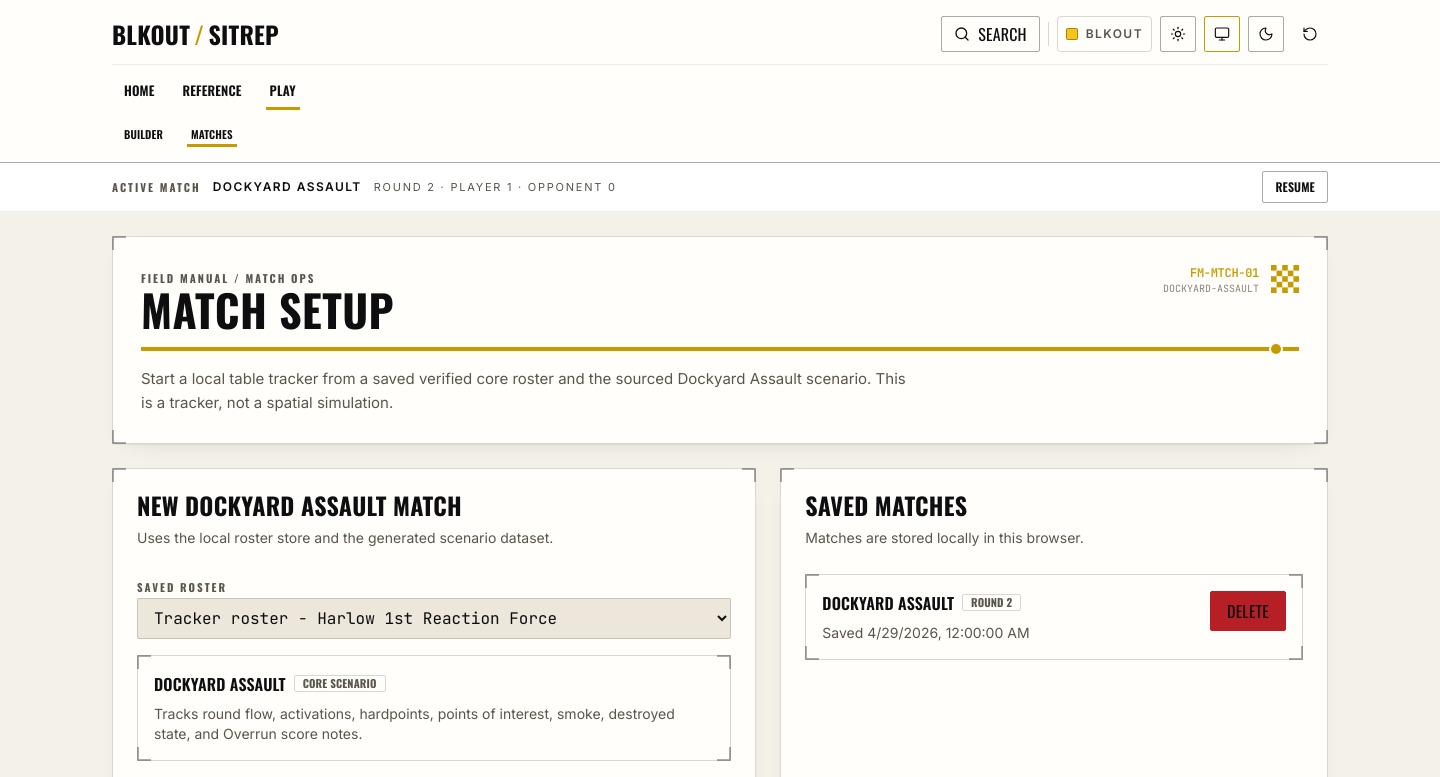
Test case: App smoke test › surfaces and deletes saved matches from match setup
Expected: the text "Round 2" is shown, [962,594,1021,612]
Click the button "Delete".
click(1248, 611)  # box [1210,591,1286,631]
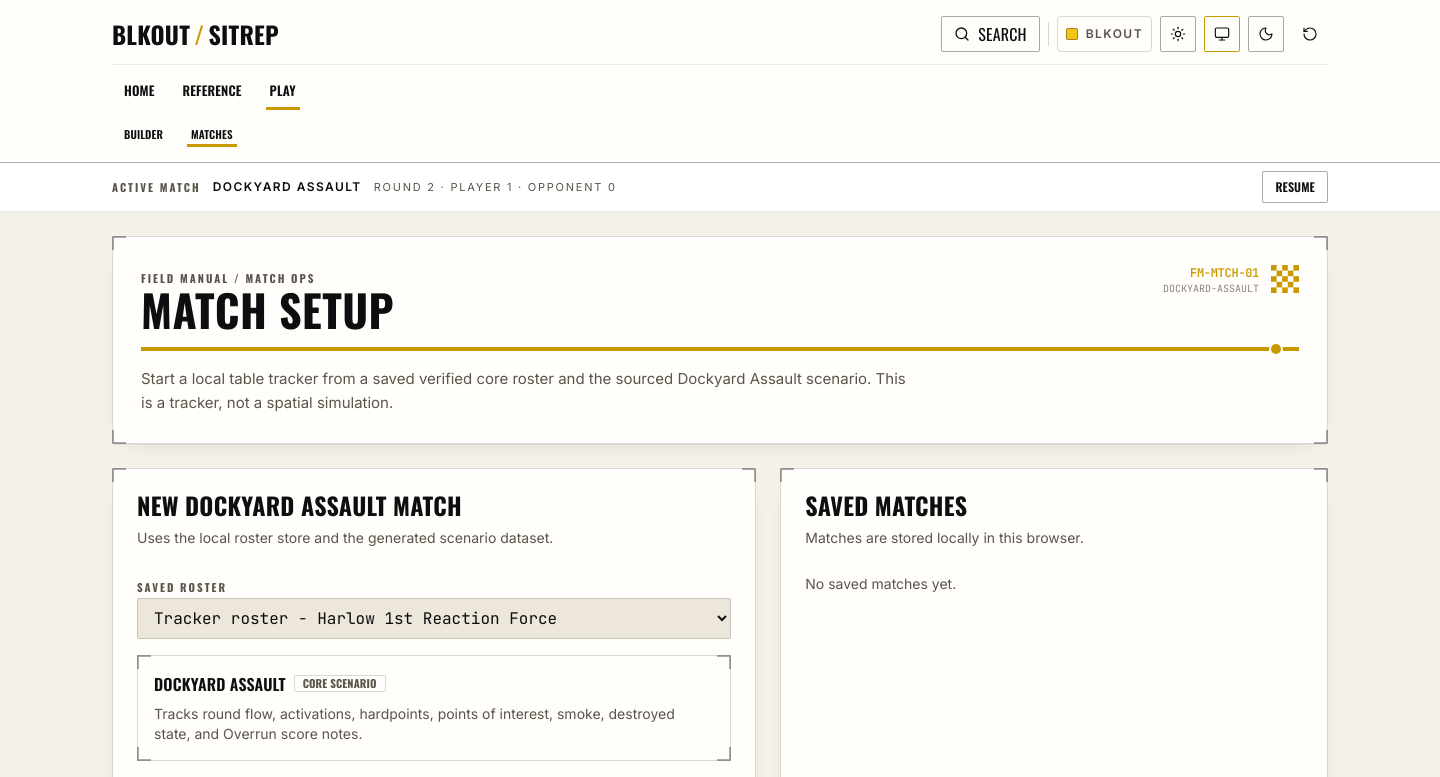
Result: the text "No saved matches yet." is shown at [805,575,956,592]
